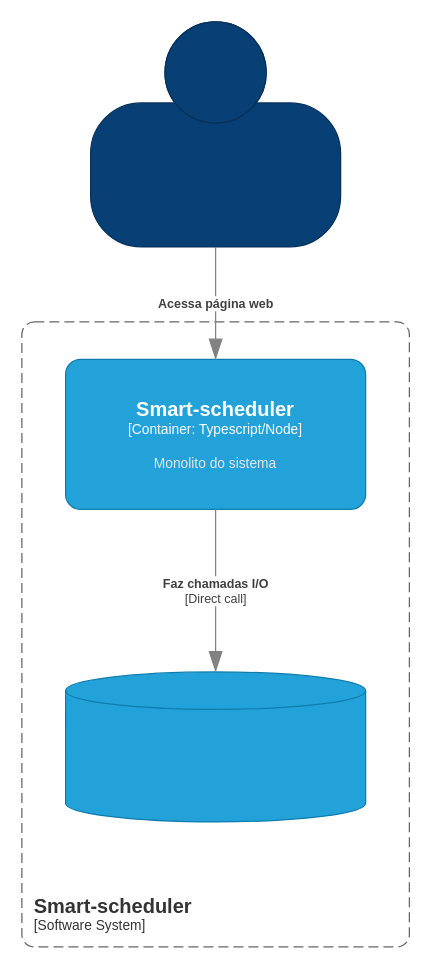
The diagram is 431 pixels wide and 969 high, and some of its shapes have lost their labels. The centre of each missing label's shape, as x and y in pixels:
Database [Container: SQLite ou file] Banco de dados em memória ou arquivo: the point at 215,746
Usuário [Person] Usuário que montará a escala: the point at 215,134
